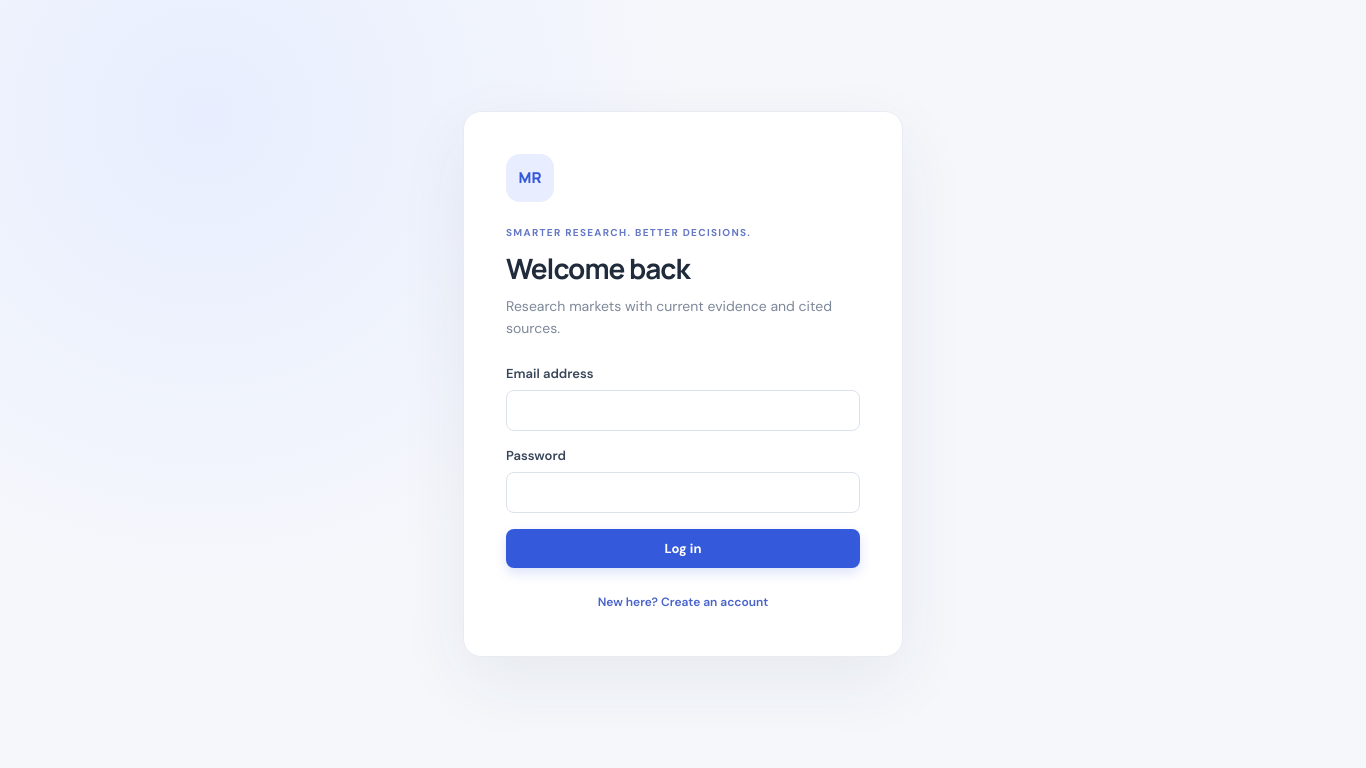
Test: authentication › submits a research question and displays the persisted job status
Expected: the heading "Welcome back" is shown, [506,249,690,287]
Type "test@example.com" into the field labelled "Email address" at (683, 411), box [506,390,860,431]
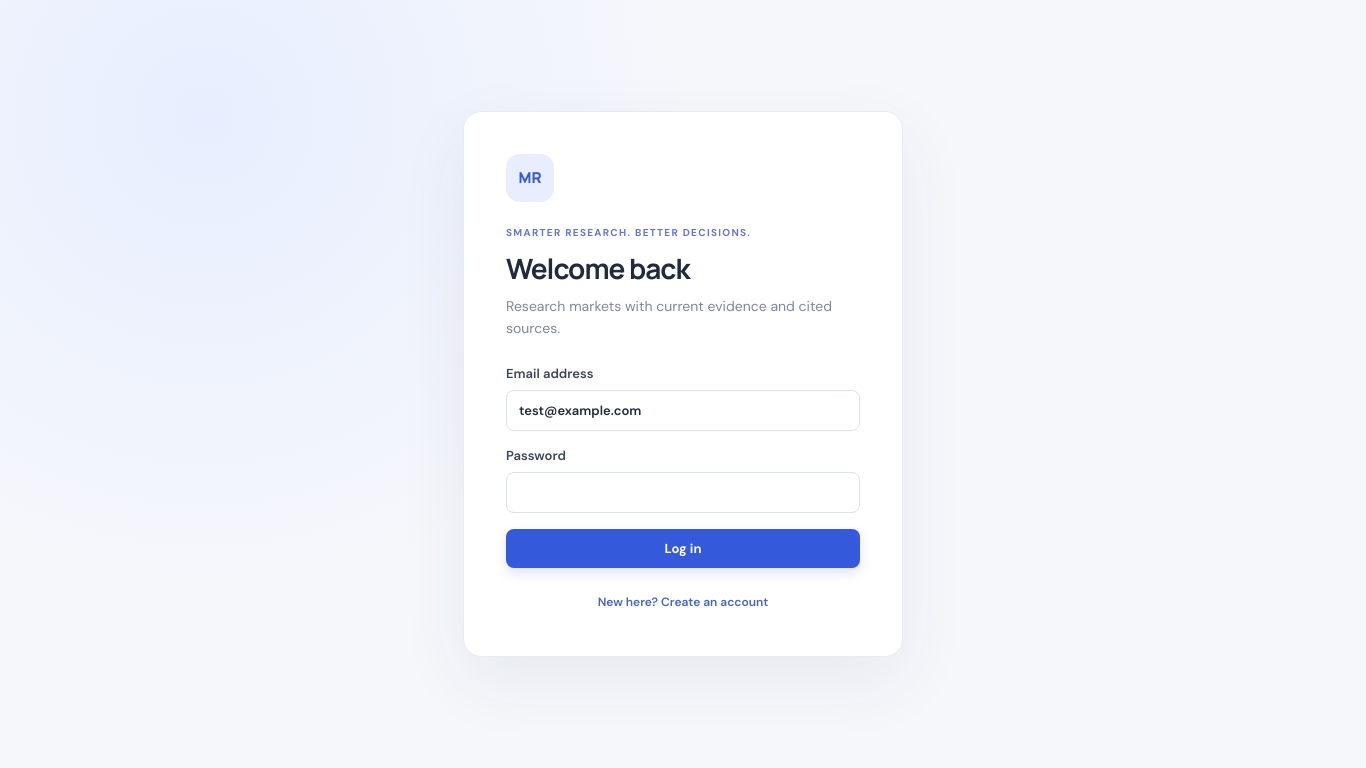
Type "a-secure-password" into the password field labelled "Password" at (683, 493), box [506,472,860,513]
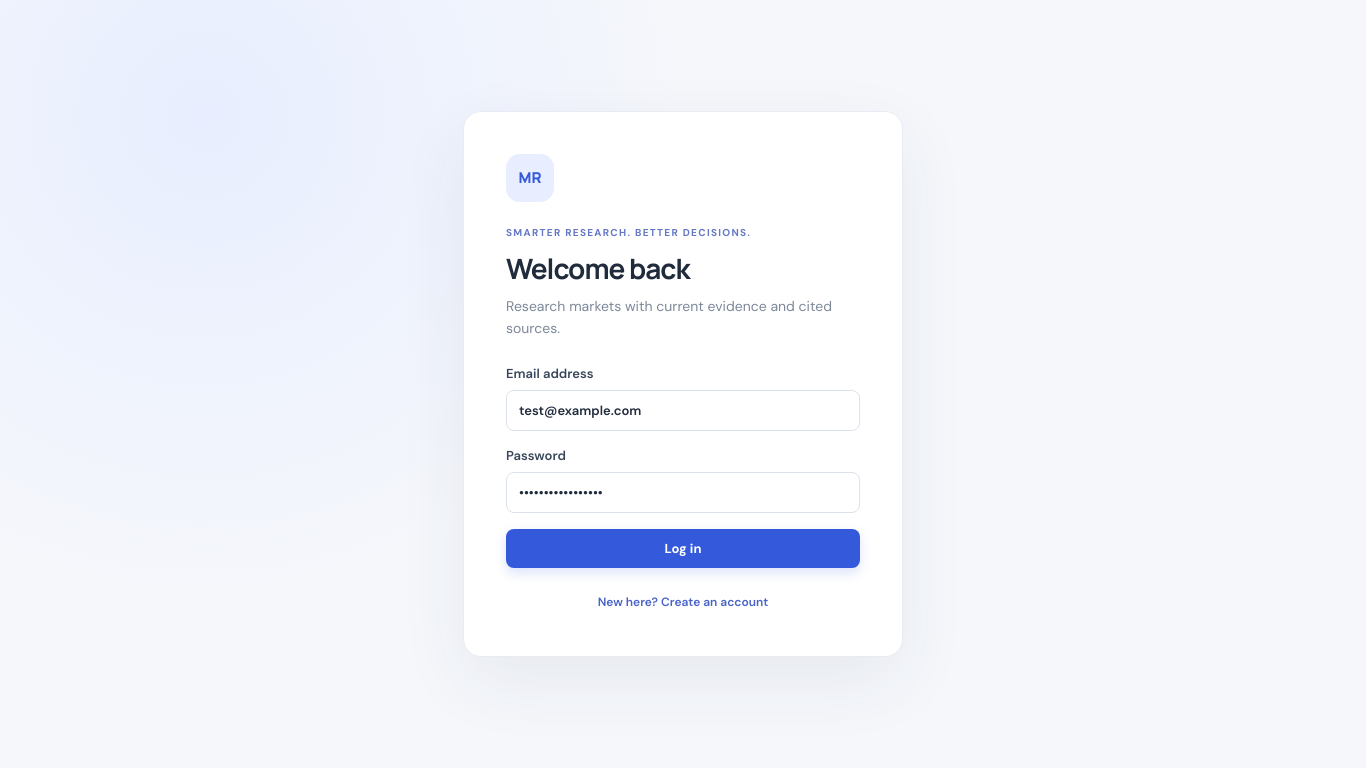
Click the button "Log in" at (683, 549), box [506,529,860,568]
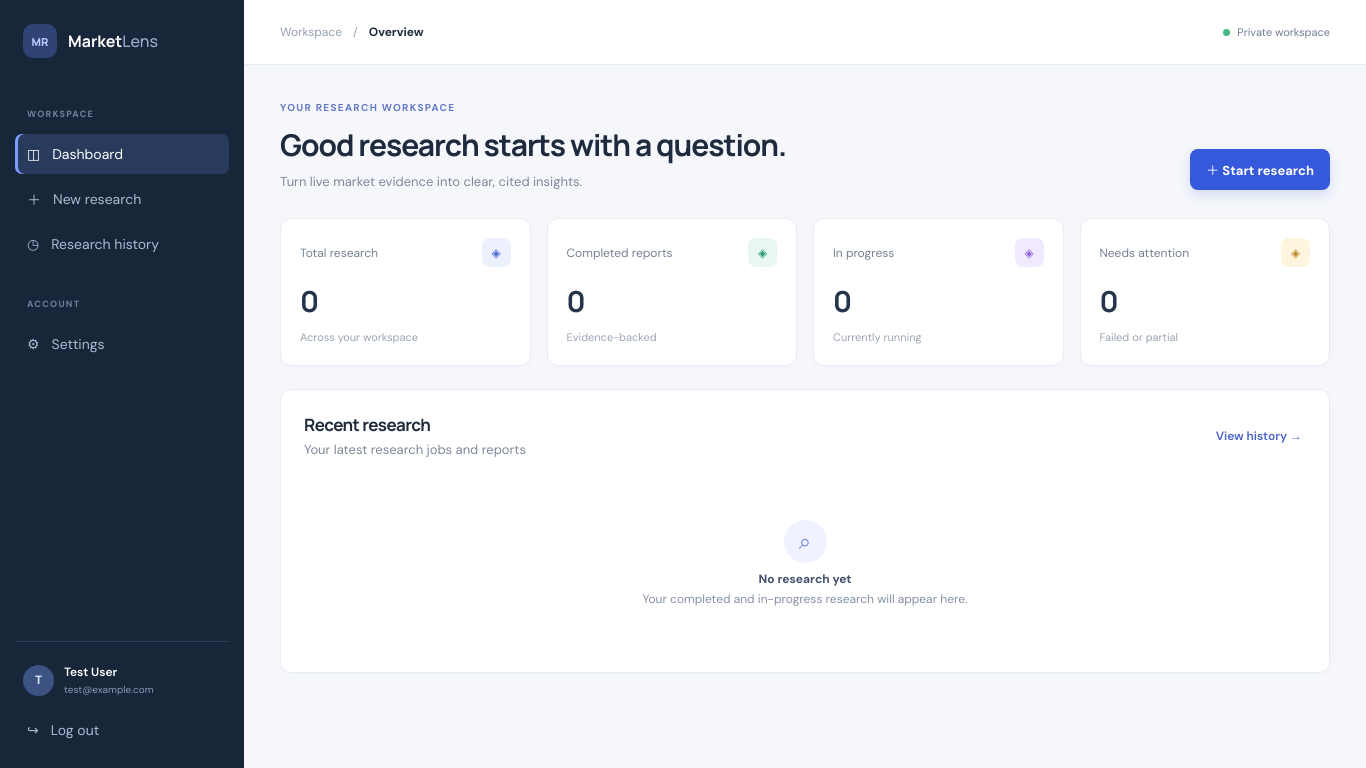
Now the heading "Good research starts with a question." is shown, box [280,124,786,165]
Click the button "＋ New research" at (122, 199), box [15,178,229,220]
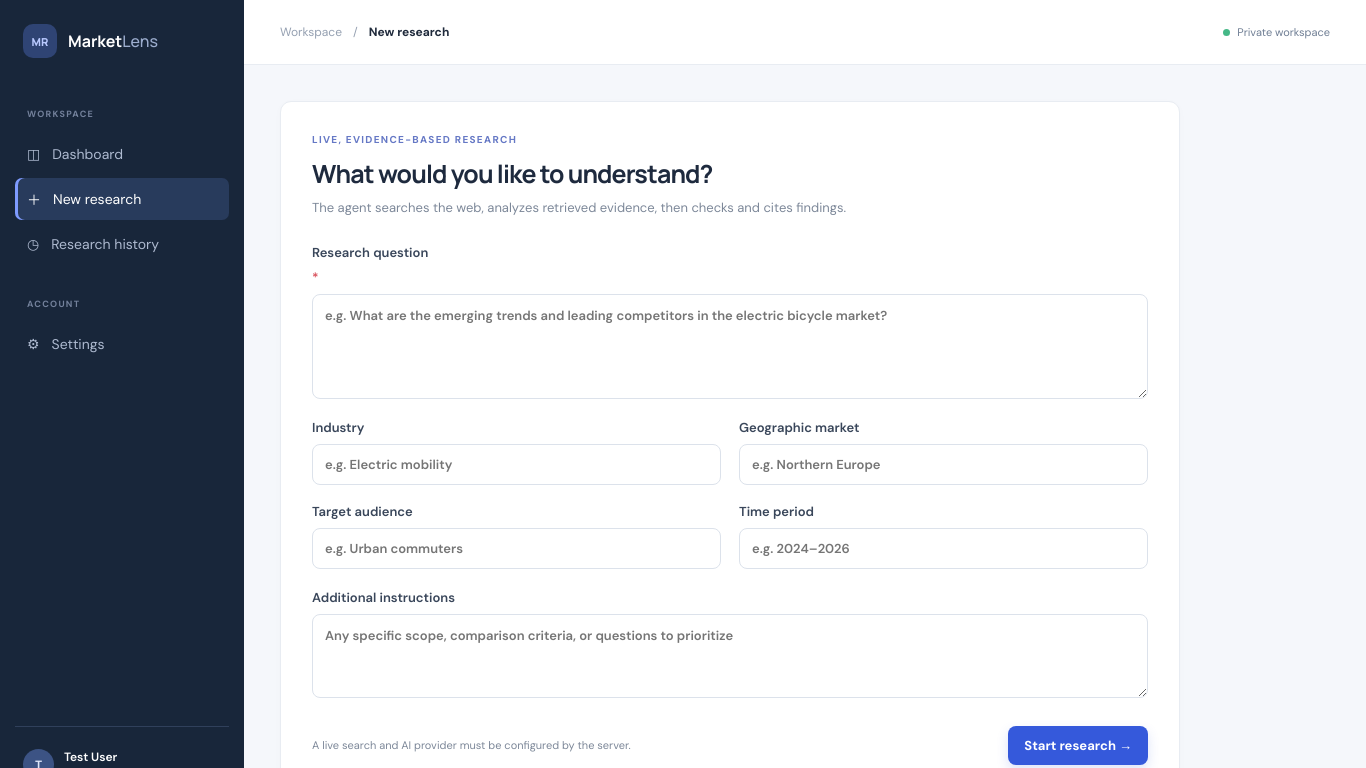
Replace the text in the text box labelled "Research question *" with "EV charging market trends" at (730, 346), box [312,294,1148,399]
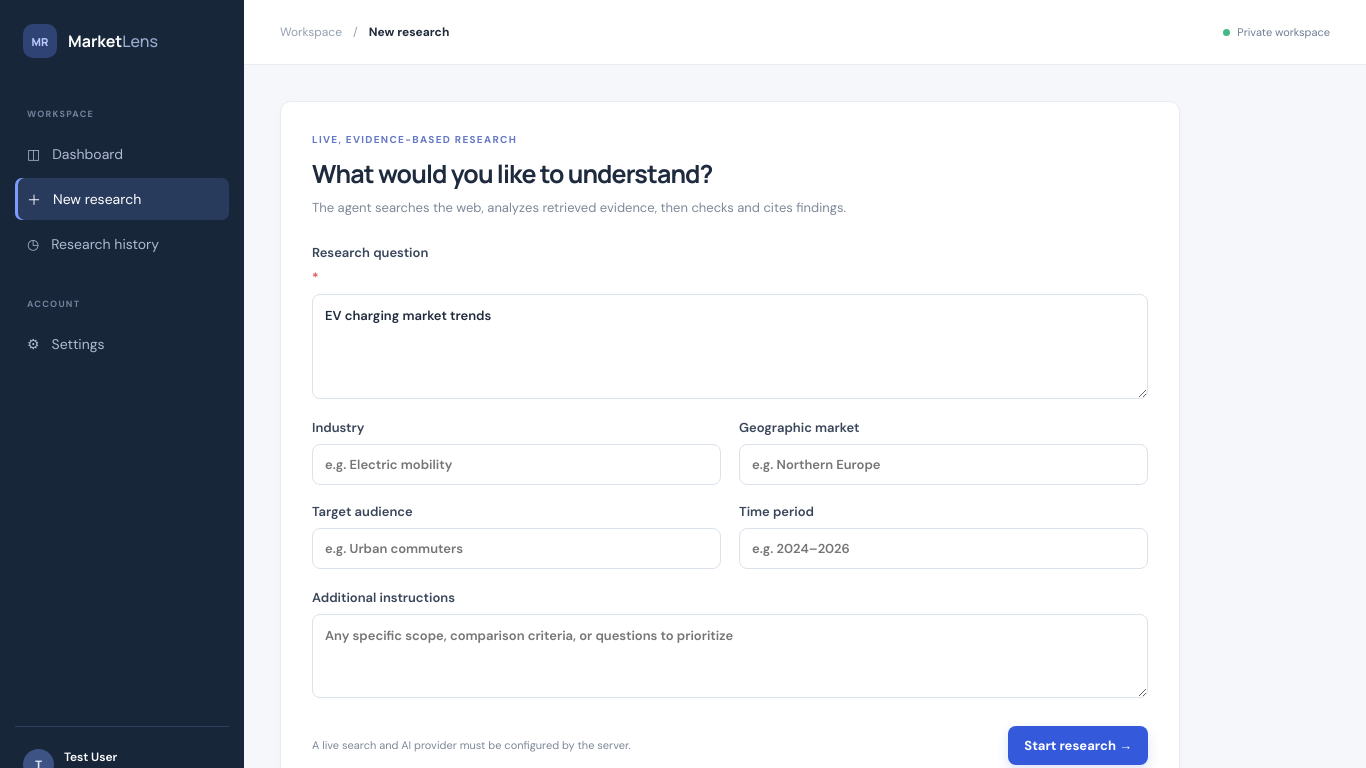
Click the button "Start research →" at (1078, 746), box [1008,726,1148,765]
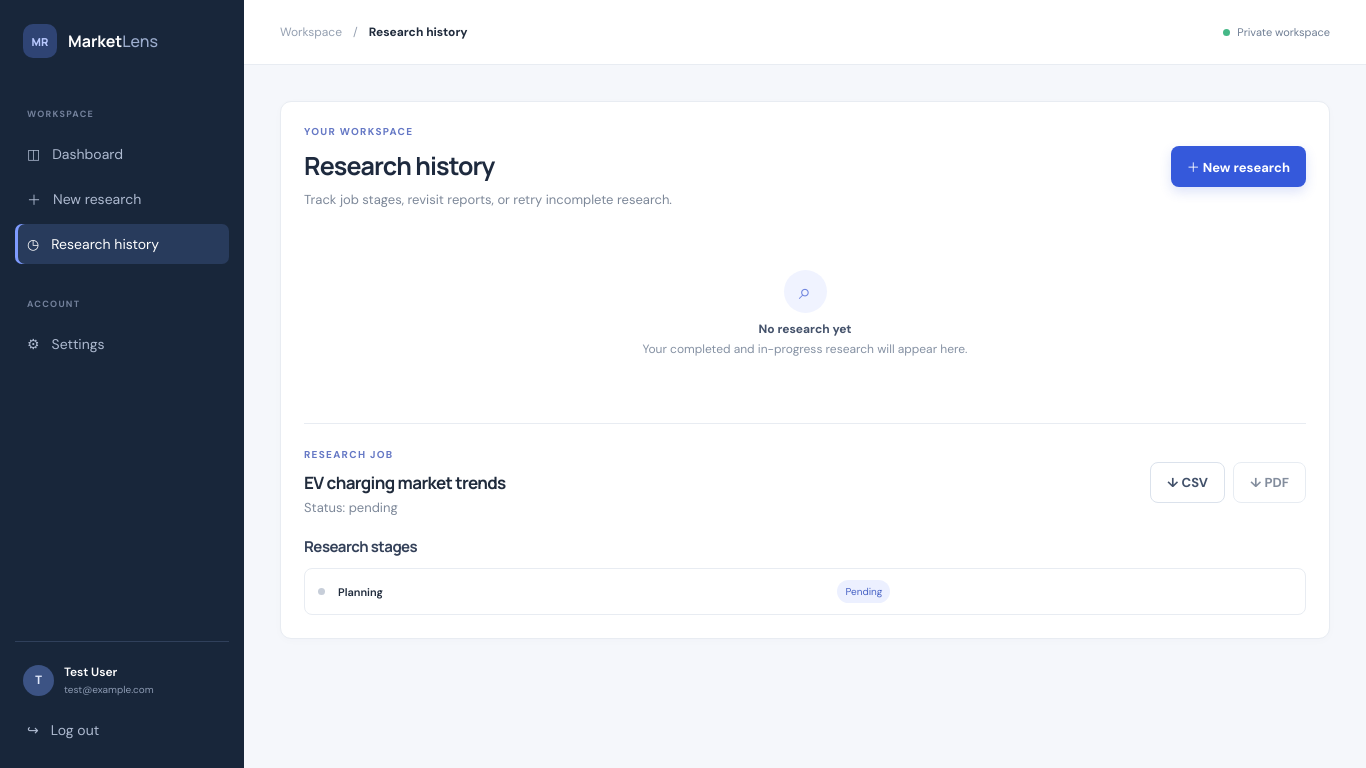
Now the heading "EV charging market trends" is shown, box [304,471,506,494]
Now the text "pending" is shown, box [838,580,890,603]
